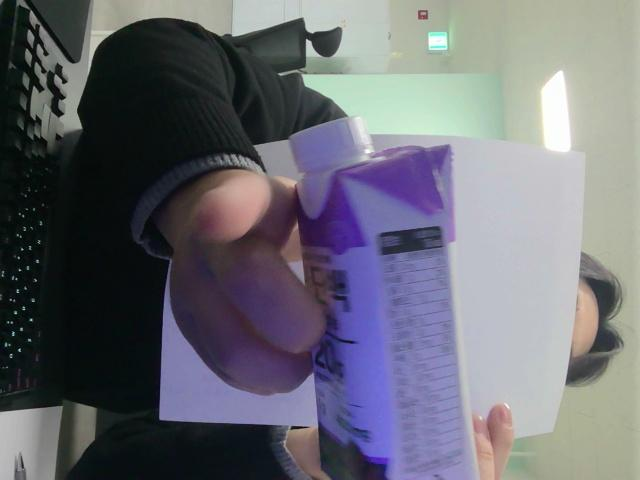milk: (292, 118, 476, 479)
